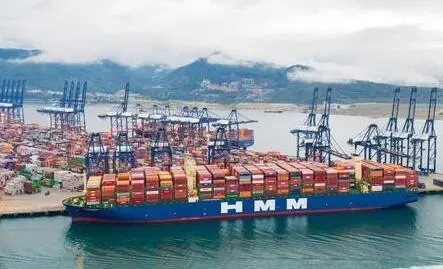Cargoship: (57, 135, 419, 222)
